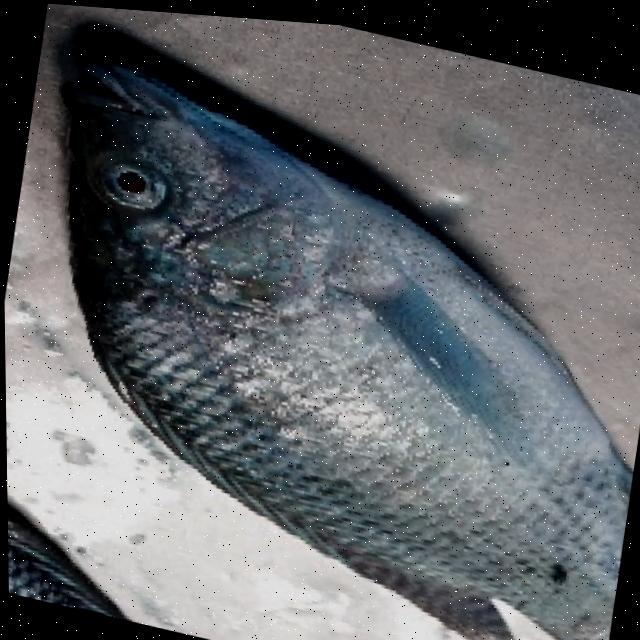Fresh: (7, 28, 640, 581)
